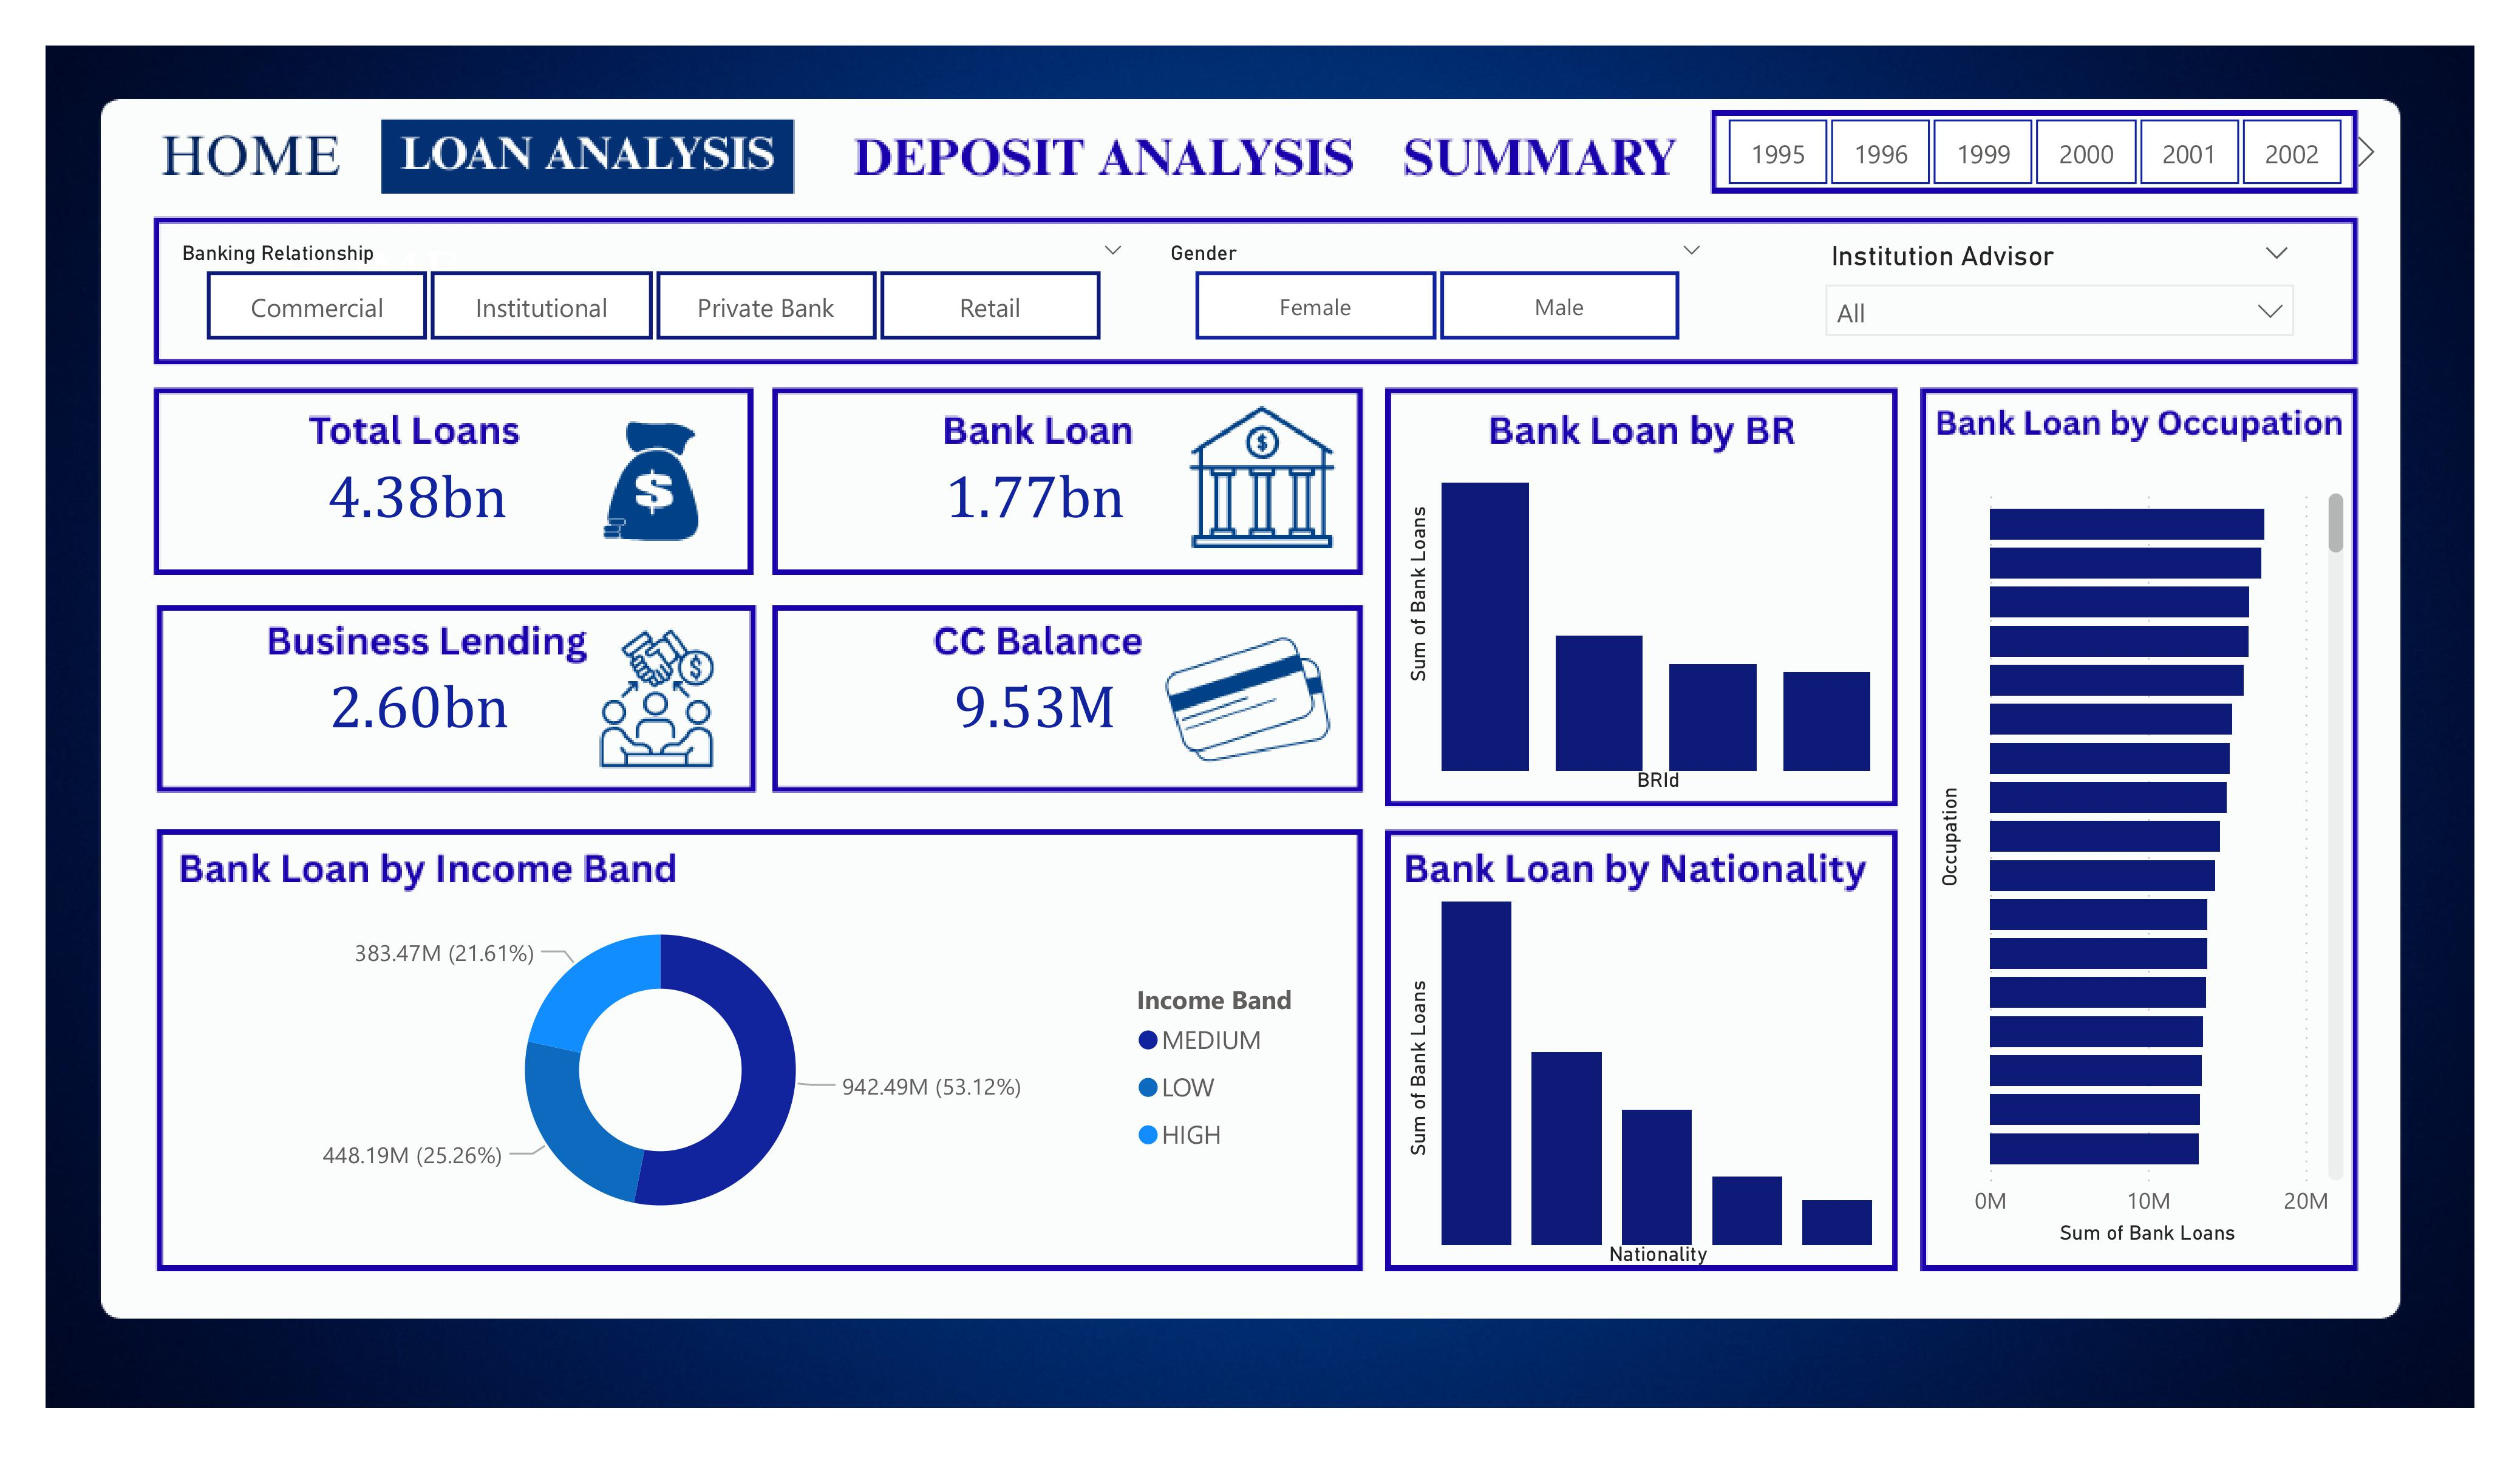

The page's visual inventory and layout, read from the dashboard file:
{"tool":"powerbi","page":{"name":"Loan Analysis","canvas":[1280,720],"ordinal":1},"visuals":[{"type":"slicer","fields":{"Values":["banking_case customer.Year of joining"]},"box":[861.3,32.5,373,47],"z":0},{"type":"actionButton","box":[59.4,35.8,99.7,40.3],"z":1000},{"type":"actionButton","box":[424.2,35.8,270.9,40.3],"z":2000},{"type":"actionButton","box":[713,39.2,148.9,40.3],"z":3000},{"type":"card","fields":{"Values":["banking_case customer.Total loan"]},"box":[98.8,200.2,193.7,73.1],"z":4000},{"type":"card","fields":{"Values":["Sum(banking_case customer.Bank Loans)"]},"box":[424.7,200.2,193.7,73.1],"z":5000},{"type":"card","fields":{"Values":["Sum(banking_case customer.Business Lending)"]},"box":[100.1,310.5,193.7,73.1],"z":6000},{"type":"card","fields":{"Values":["Sum(banking_case customer.Credit Card Balance)"]},"box":[424.7,310.5,193.7,73.1],"z":7000},{"type":"donutChart","fields":{"Category":["banking_case customer.Income Band"],"Y":["Sum(banking_case customer.Bank Loans)"]},"box":[68,443.9,612,192.5],"z":8000},{"type":"clusteredColumnChart","fields":{"Category":["banking_case customer.BRId"],"Y":["Sum(banking_case customer.Bank Loans)"]},"box":[713.4,182.2,255.3,215.6],"z":9000},{"type":"clusteredColumnChart","fields":{"Category":["banking_case customer.Nationality"],"Y":["Sum(banking_case customer.Bank Loans)"]},"box":[713.4,432.4,255.3,215.6],"z":10000},{"type":"slicer","fields":{"Values":["banking_case customer.BRId"]},"box":[59,97.5,520.9,64.2],"z":11000},{"type":"slicer","fields":{"Values":["banking_case customer.Gender"]},"box":[580,97.5,305.4,64.2],"z":12000},{"type":"slicer","fields":{"Values":["banking_case customer.IAId"]},"box":[927.7,97.5,266.9,64.2],"z":13000},{"type":"clusteredBarChart","fields":{"Category":["banking_case customer.Occupation"],"Y":["Sum(banking_case customer.Bank Loans)"]},"box":[992.8,222.7,222.7,414.1],"z":14000}]}

Visuals, with their boxes on the page's 1280x720 design canvas (x1, y1, x2, y2). These are canvas units, not pixel positions in the 2520x1457 screenshot, which may show the page scaled, cropped or inside an application window:
slicer - banking_case customer.Year of joining: select_region(861, 32, 1234, 80)
actionButton: select_region(59, 36, 159, 76)
actionButton: select_region(424, 36, 695, 76)
actionButton: select_region(713, 39, 862, 80)
card - banking_case customer.Total loan: select_region(99, 200, 292, 273)
card - Sum(banking_case customer.Bank Loans): select_region(425, 200, 618, 273)
card - Sum(banking_case customer.Business Lending): select_region(100, 310, 294, 384)
card - Sum(banking_case customer.Credit Card Balance): select_region(425, 310, 618, 384)
donutChart - banking_case customer.Income Band x Sum(banking_case customer.Bank Loans): select_region(68, 444, 680, 636)
clusteredColumnChart - banking_case customer.BRId x Sum(banking_case customer.Bank Loans): select_region(713, 182, 969, 398)
clusteredColumnChart - banking_case customer.Nationality x Sum(banking_case customer.Bank Loans): select_region(713, 432, 969, 648)
slicer - banking_case customer.BRId: select_region(59, 98, 580, 162)
slicer - banking_case customer.Gender: select_region(580, 98, 885, 162)
slicer - banking_case customer.IAId: select_region(928, 98, 1195, 162)
clusteredBarChart - banking_case customer.Occupation x Sum(banking_case customer.Bank Loans): select_region(993, 223, 1216, 637)
